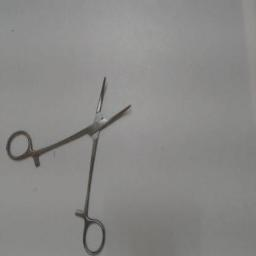Crile Artery Forceps: (4, 68, 136, 256)
